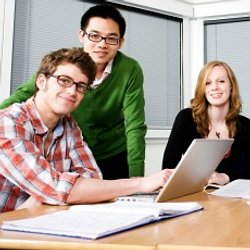Person: (1, 46, 175, 208), (1, 3, 148, 180), (161, 60, 250, 186)
